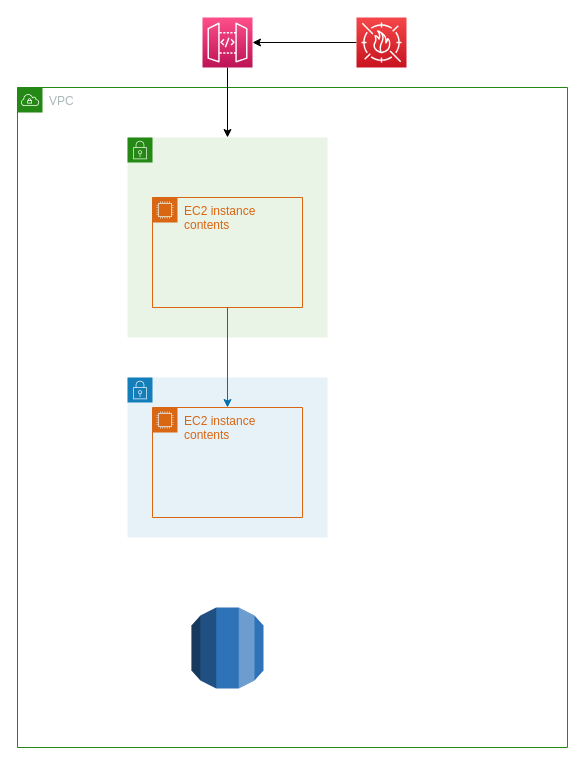
Image size: 585x765. Some labels were removed from this diagram. Here are the shapes that lost their labels. From the top down, the box of each, then its label:
(126, 136, 328, 338): Public subnet
(126, 376, 328, 538): Private subnet
